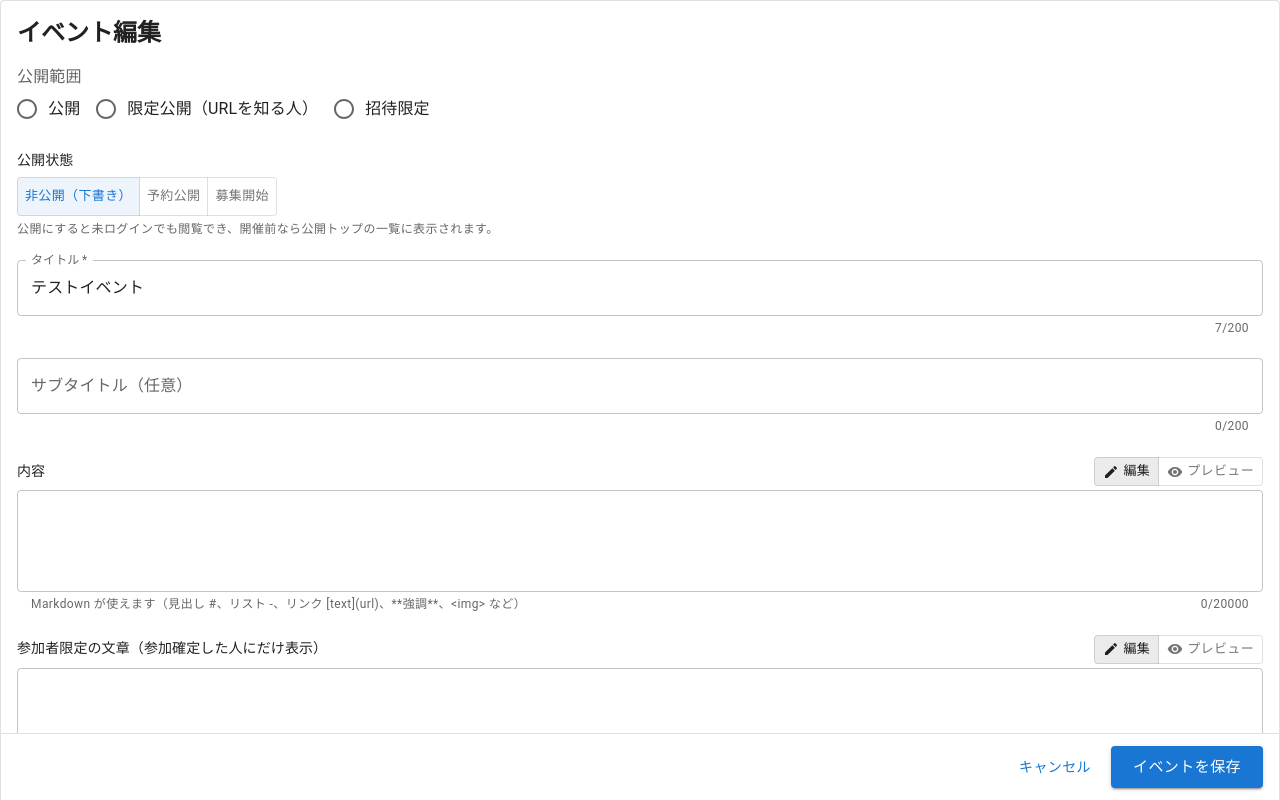
Test: 予約公開 (D-EVENT-SCHEDULED-PUBLISH) › 過去の日時では保存できない
Click the button "予約公開" at (174, 196), box 139,177 -> 208,216
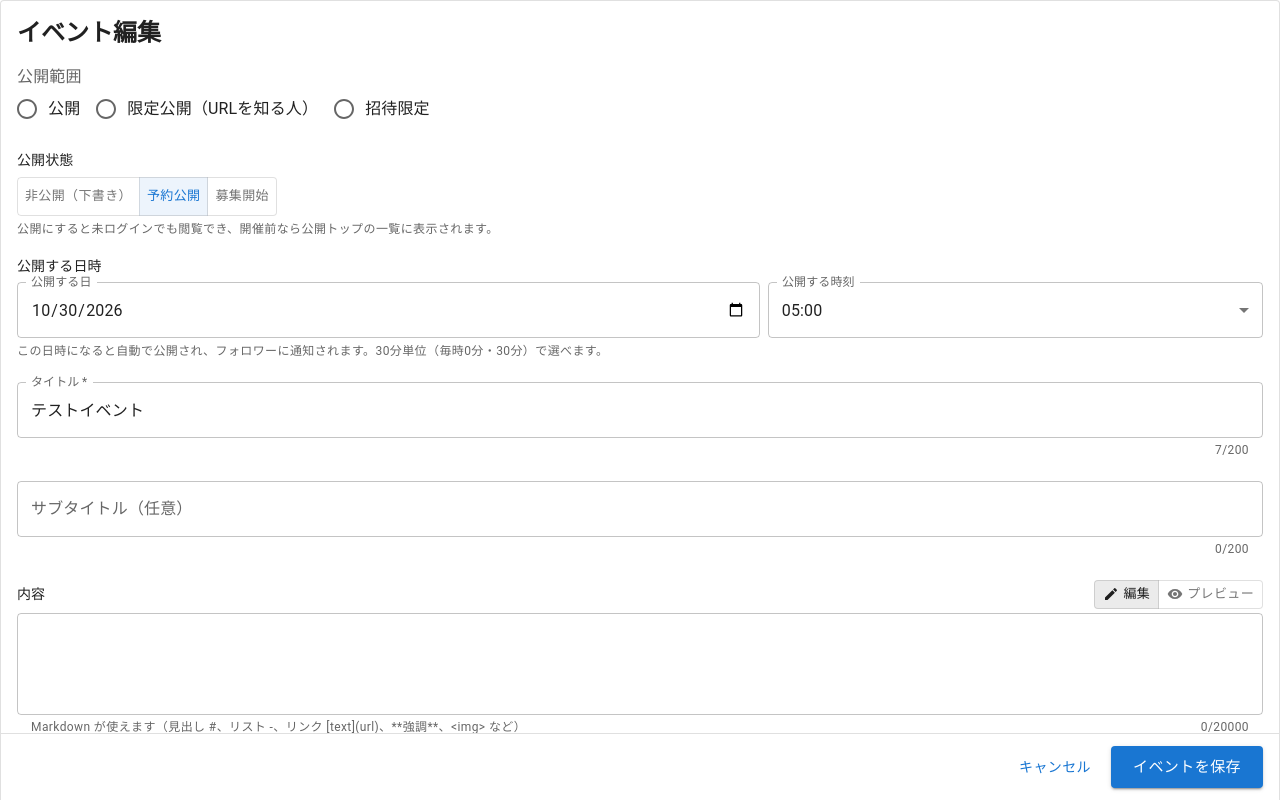
Type "2020-01-01" into the date field labelled "公開する日" at (388, 310), box 17,282 -> 760,338
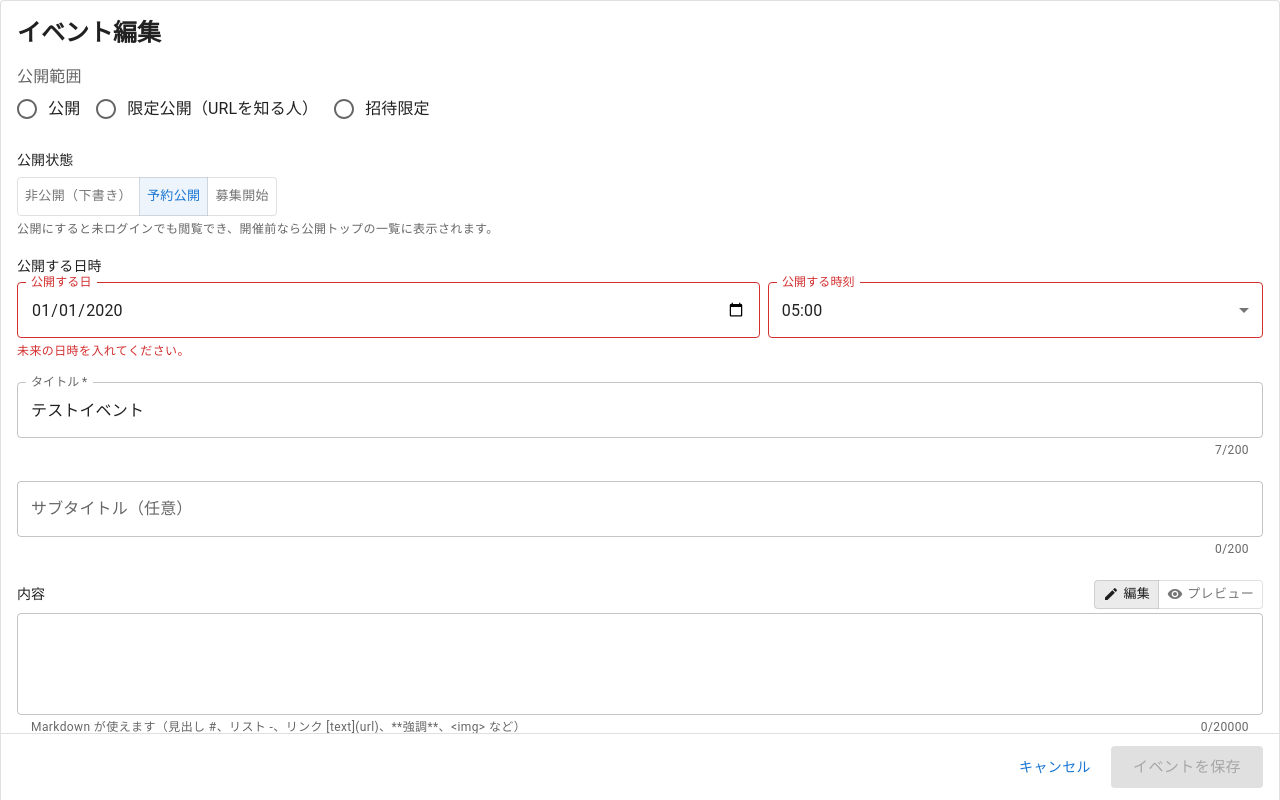
Check: the text "未来の日時を入れてください。" is shown, box 17,344 -> 190,358
Check: the button "イベントを保存" is disabled, box 1111,746 -> 1263,788
